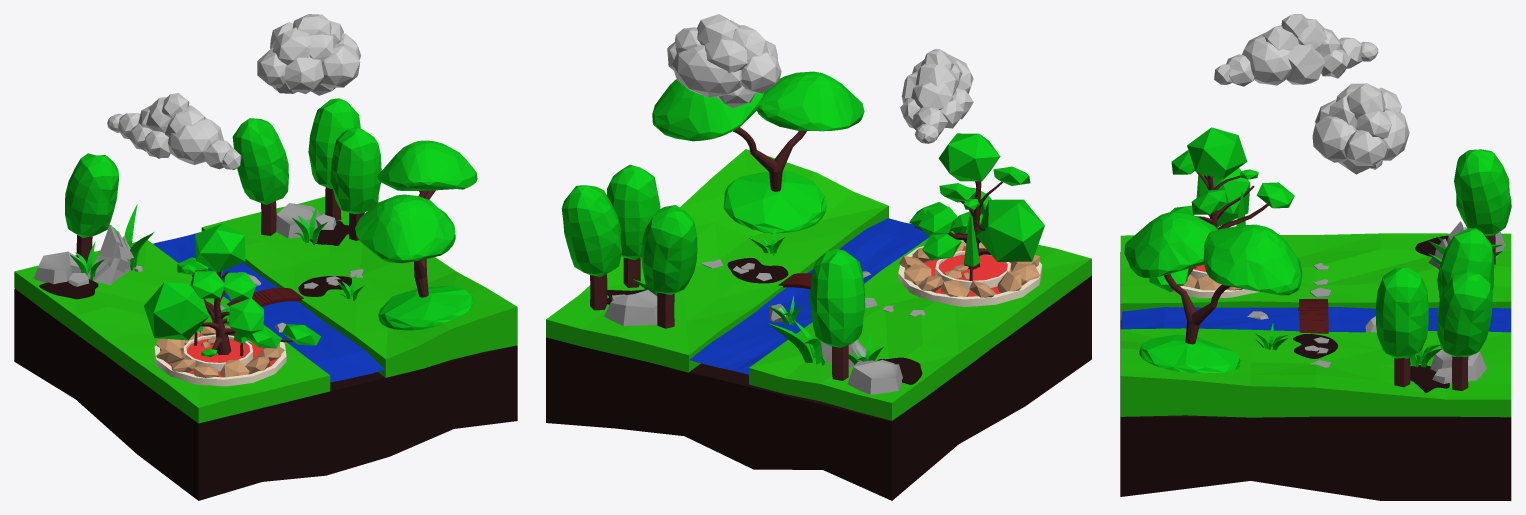
File: Envrionmenttt.FBX
3 views of the same model, side by side, from view 1: azimuth 30°, elevation 25°; view 2: azimuth 150°, elevation 25°; view 3: azimuth 270°, elevation 25° (orthographic). The views are drawn at different scales.
Visible parts, largest first — view 1: Box001, Env, Tree 1, Prot 4, Bulut 2, Bulut 1, Water, Prot 007, Prot 008, Prot 5, Prot 6, Stone 2 (+6 smaller); view 2: Box001, Env, Tree 1, Prot 4, Bulut 2, Water, Prot 008, Prot 6, Bulut 1, Prot 007, Prot 5, Stonee (+3 smaller); view 3: Env, Box001, Prot 4, Tree 1, Bulut 1, Bulut 2, Water, Prot 5, Prot 6, Prot 008, Prot 007, Kopru (+3 smaller).
Boxes of the visible parts, <box> form: Box001: <box>14,288,517,500</box>; Env: <box>14,196,517,423</box>; Tree 1: <box>144,223,320,386</box>; Prot 4: <box>355,140,477,330</box>; Bulut 2: <box>257,14,361,95</box>; Bulut 1: <box>107,93,241,169</box>; Water: <box>153,232,384,382</box>; Prot 007: <box>232,118,288,235</box>; Prot 008: <box>65,153,119,263</box>; Prot 5: <box>330,127,381,240</box>; Prot 6: <box>308,98,360,220</box>; Stone 2: <box>87,224,142,284</box>; Box001: <box>546,276,1091,500</box>; Env: <box>546,149,1091,420</box>; Tree 1: <box>898,133,1044,306</box>; Prot 4: <box>652,71,864,233</box>; Bulut 2: <box>667,14,781,107</box>; Water: <box>689,218,929,374</box>; Prot 008: <box>810,249,865,380</box>; Prot 6: <box>561,185,621,310</box>; Bulut 1: <box>900,49,973,143</box>; Prot 007: <box>641,205,697,328</box>; Prot 5: <box>607,164,660,287</box>; Stonee: <box>604,290,657,326</box>; Env: <box>1120,233,1511,417</box>; Box001: <box>1120,252,1511,500</box>; Prot 4: <box>1124,211,1302,373</box>; Tree 1: <box>1149,127,1294,298</box>; Bulut 1: <box>1214,14,1378,86</box>; Bulut 2: <box>1312,83,1409,174</box>; Water: <box>1121,307,1511,332</box>; Prot 5: <box>1376,267,1428,387</box>; Prot 6: <box>1437,269,1492,390</box>; Prot 008: <box>1454,149,1511,264</box>; Prot 007: <box>1437,228,1494,299</box>; Kopru: <box>1298,299,1328,333</box>.
Bounding box in the file's own units: 826 × 828 × 788.
